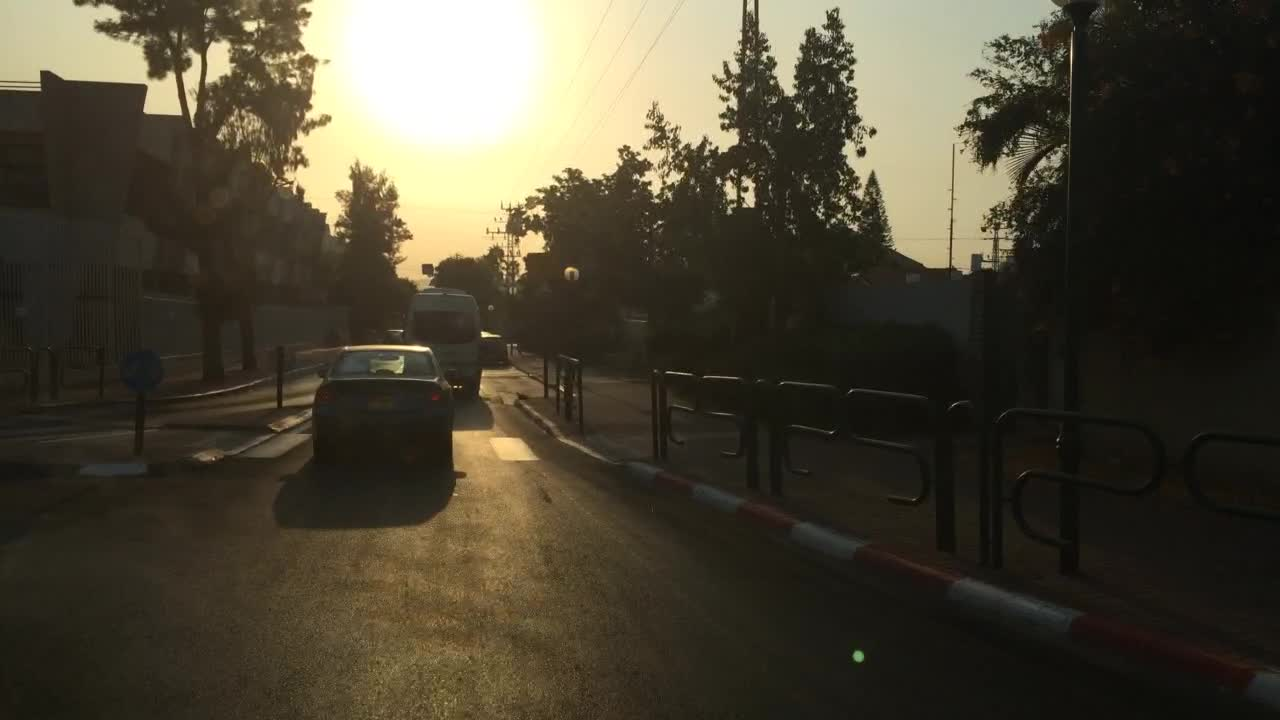bus: (407, 286, 483, 401)
car: (310, 342, 454, 477), (479, 331, 508, 367), (383, 326, 406, 342)
traffic sign: (118, 346, 165, 390), (563, 267, 580, 283)
